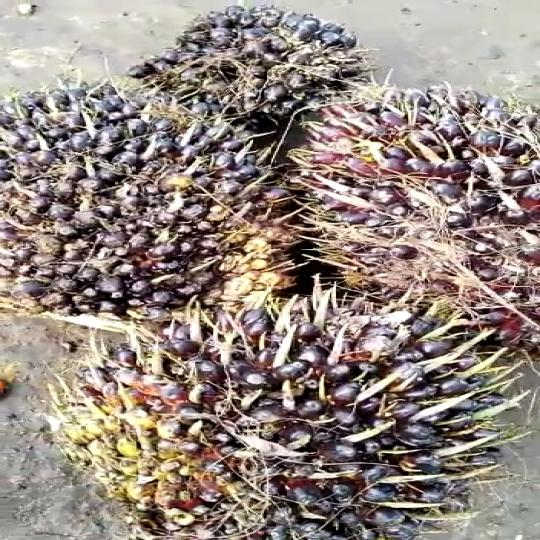mentah: (57, 294, 540, 538), (0, 72, 288, 343), (298, 79, 540, 360), (136, 1, 375, 105)
